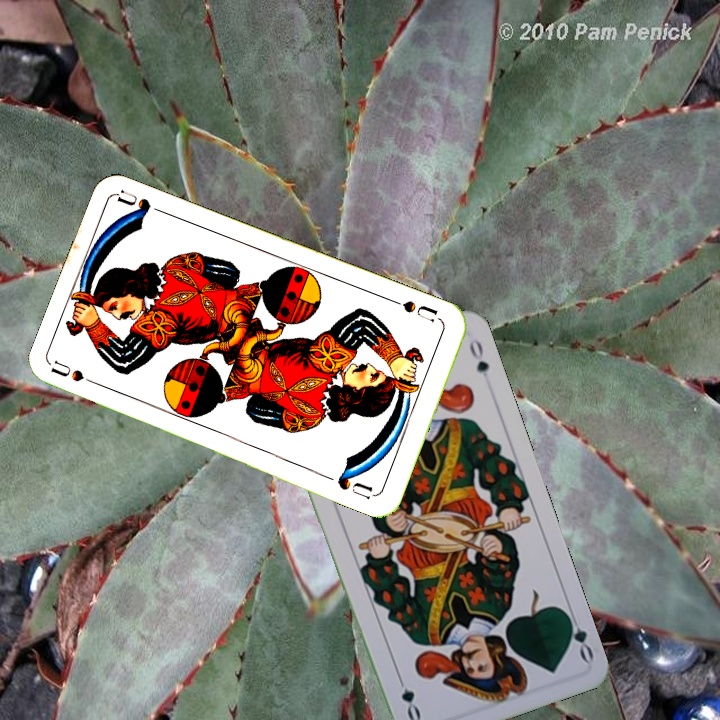GO: (561, 606, 597, 664)
SU: (49, 357, 107, 391), (387, 295, 444, 325)
